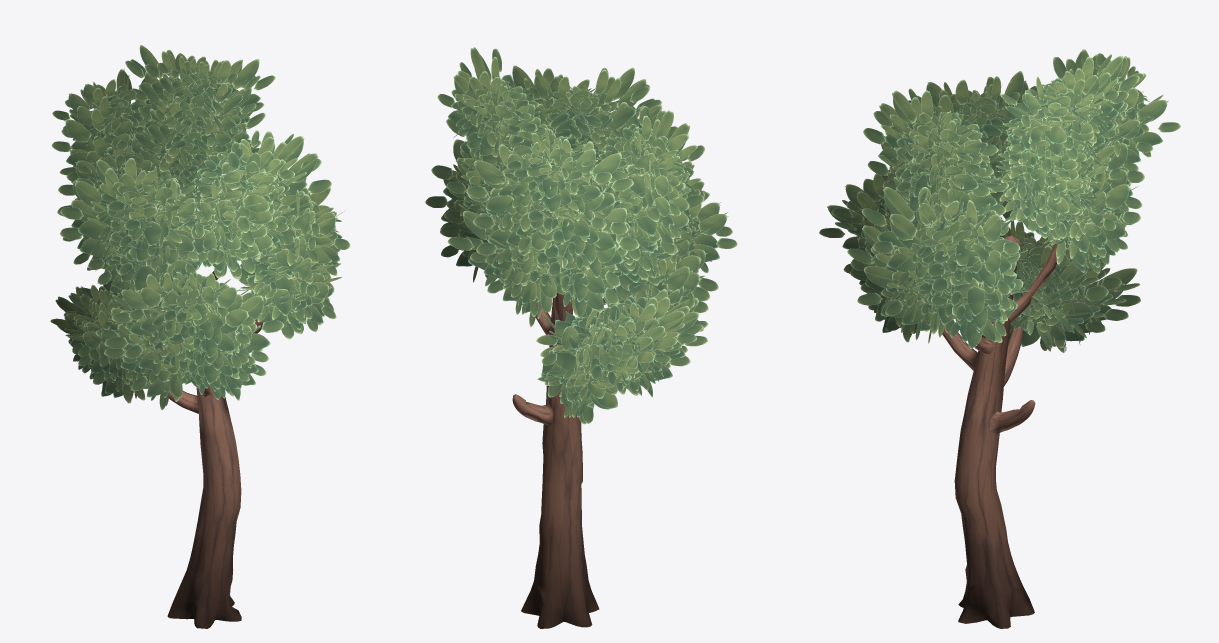
The model's file is CommonTree_5.glb.
3 views of the same model, side by side, from view 1: azimuth 30°, elevation 25°; view 2: azimuth 150°, elevation 25°; view 3: azimuth 270°, elevation 25° (orthographic). The views are drawn at different scales.
Visible parts, largest first — view 1: CommonTree_5; view 2: CommonTree_5; view 3: CommonTree_5.
Boxes of the visible parts, box(x1,y1,x2,y2) form: CommonTree_5: box(50, 45, 350, 628); CommonTree_5: box(425, 47, 737, 628); CommonTree_5: box(819, 49, 1180, 628).
Size of the model in its own units: 3.95 by 7.16 by 4.52.
2 materials, 2 textured.
